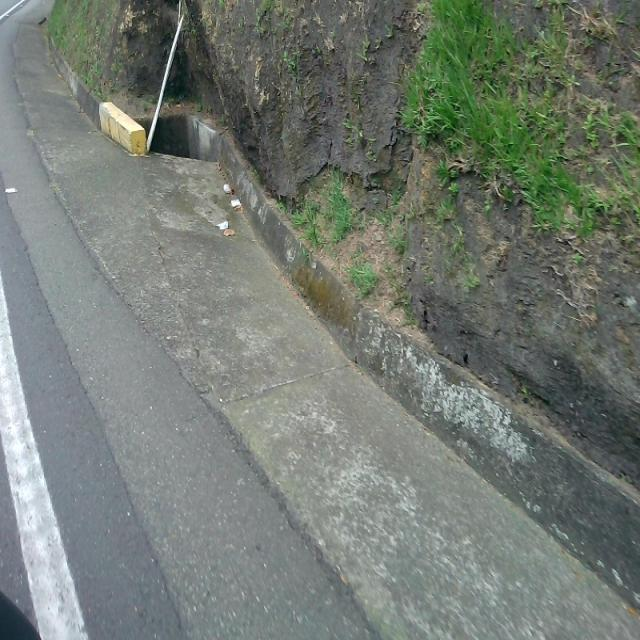DITCH: (8, 3, 638, 637)
